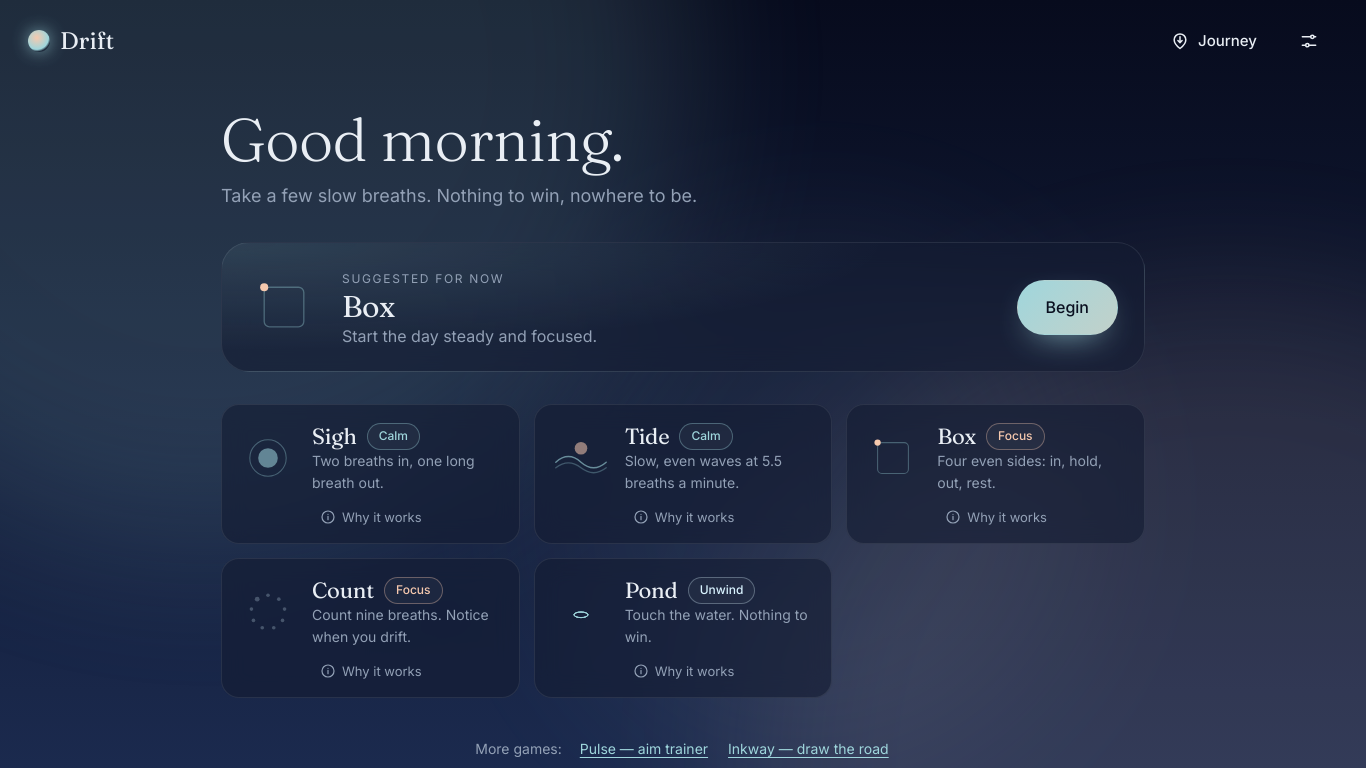
home › starts a session with the chosen options
Step 1. Click the button with aria-label "Sigh:" → [370, 454], box top-left (222, 405), bottom-right (519, 503)
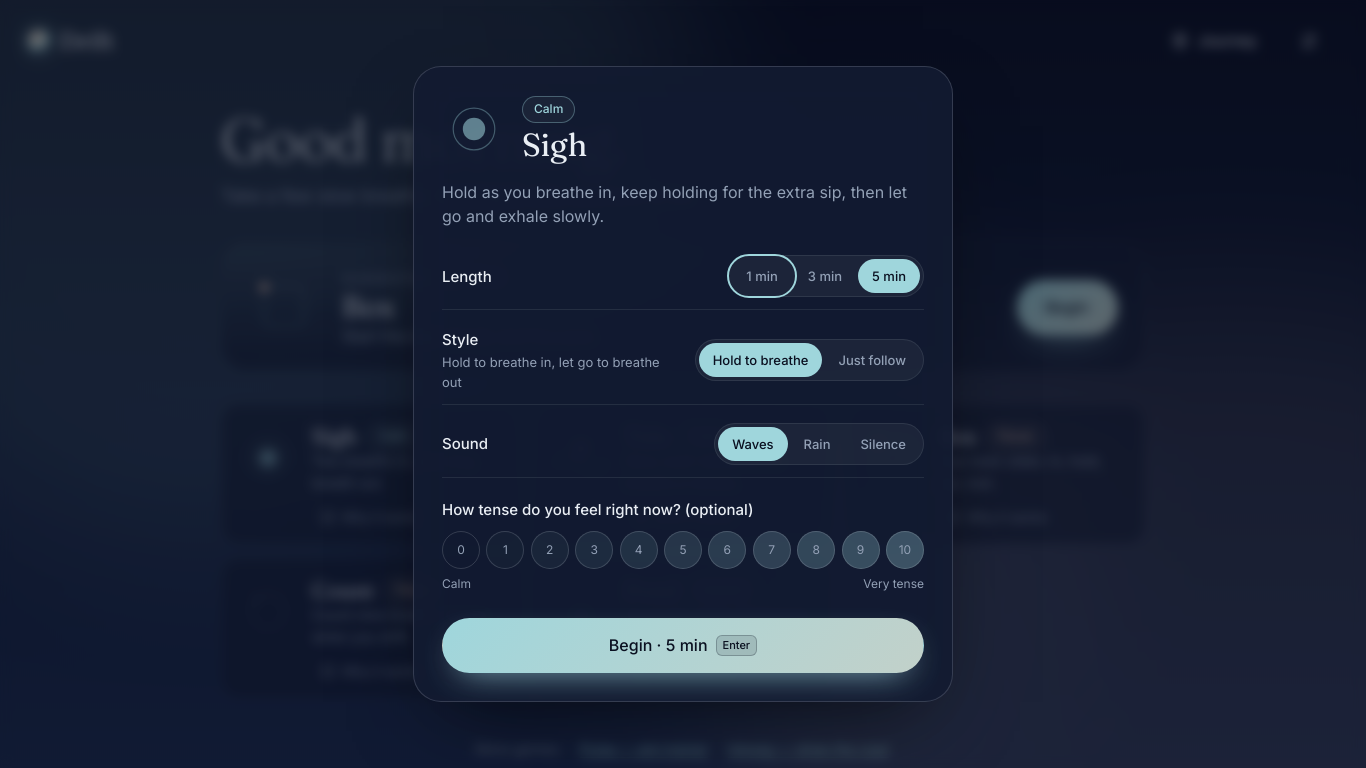
Step 2. Click the radio button labelled "1 min" → [762, 276], box top-left (732, 259), bottom-right (792, 293)
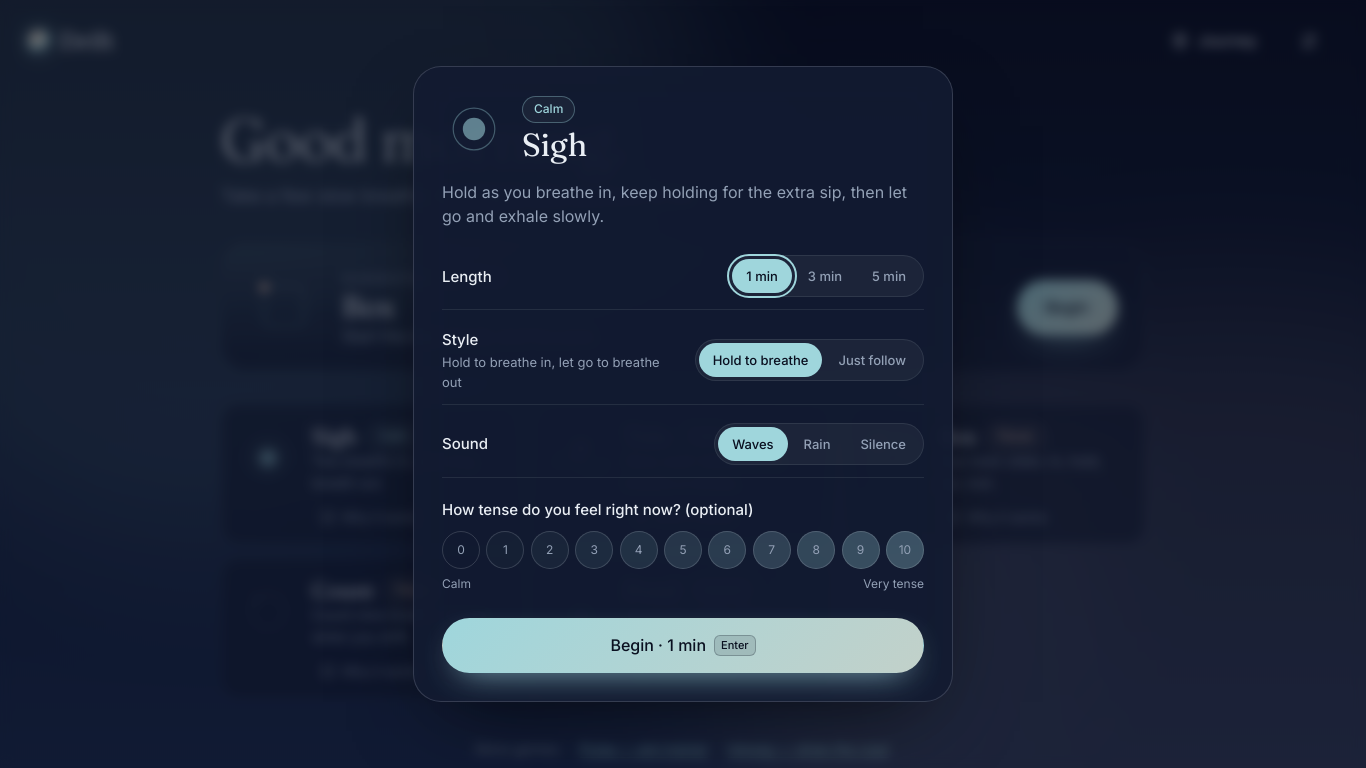
Step 3. Click the radio button labelled "Just follow" → [872, 360], box top-left (824, 343), bottom-right (920, 377)
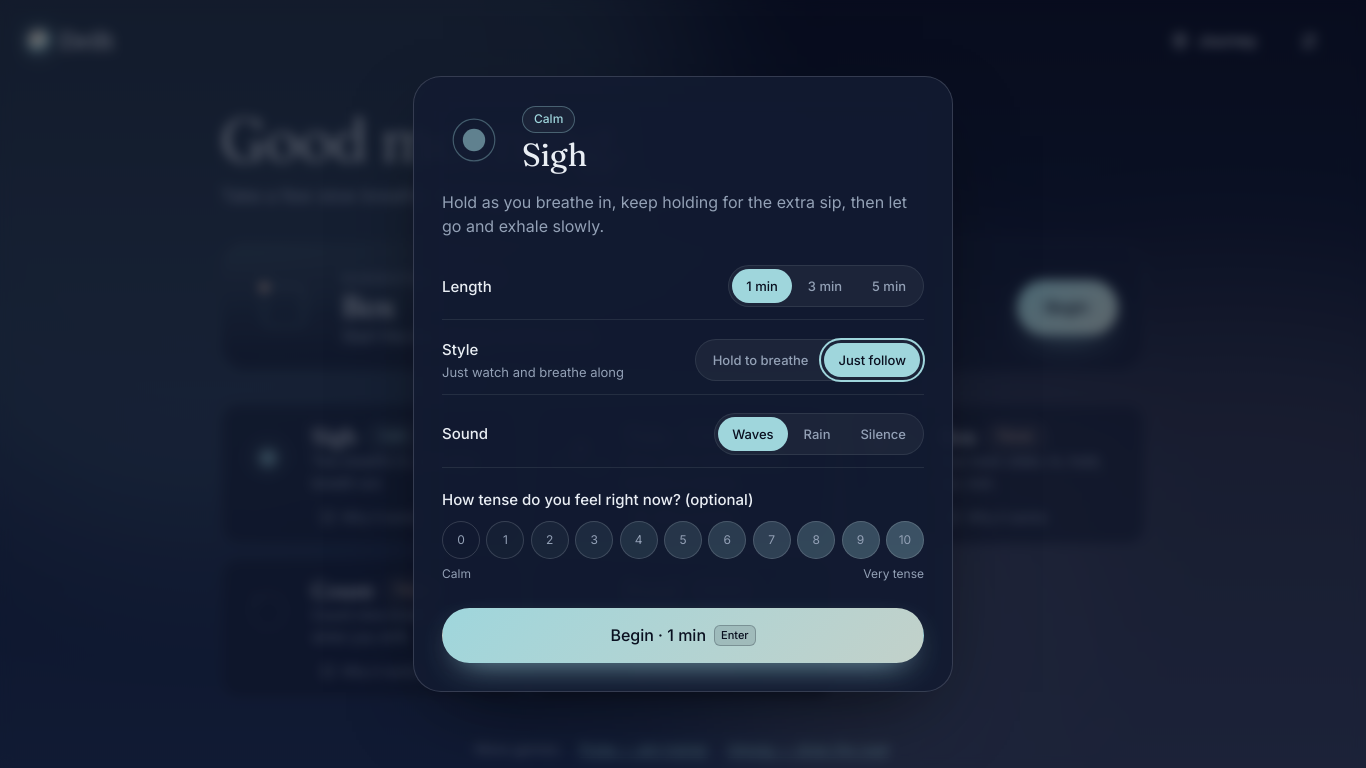
Step 4. Click the radio button labelled "Rain" → [817, 434], box top-left (790, 417), bottom-right (844, 451)
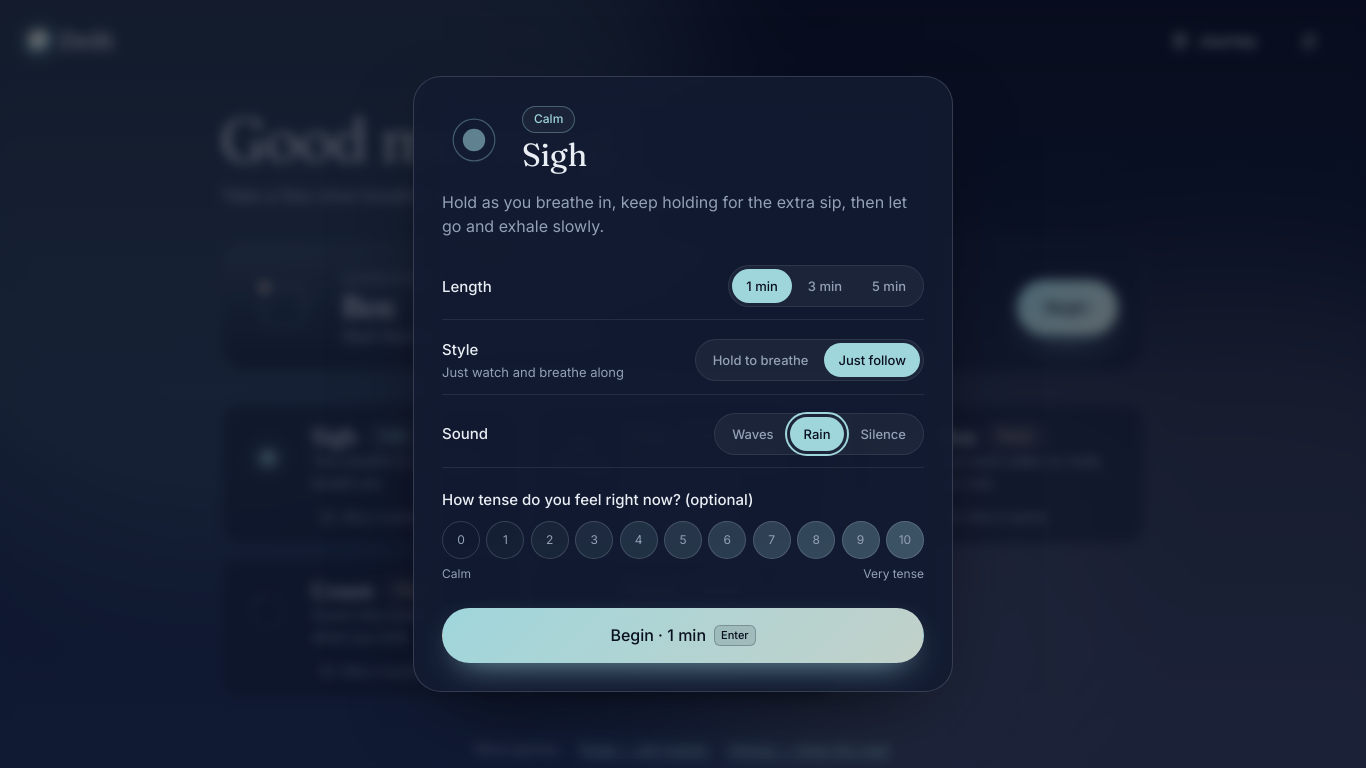
Step 5. Click the radio button labelled "6" → [727, 540], box top-left (708, 521), bottom-right (746, 559)
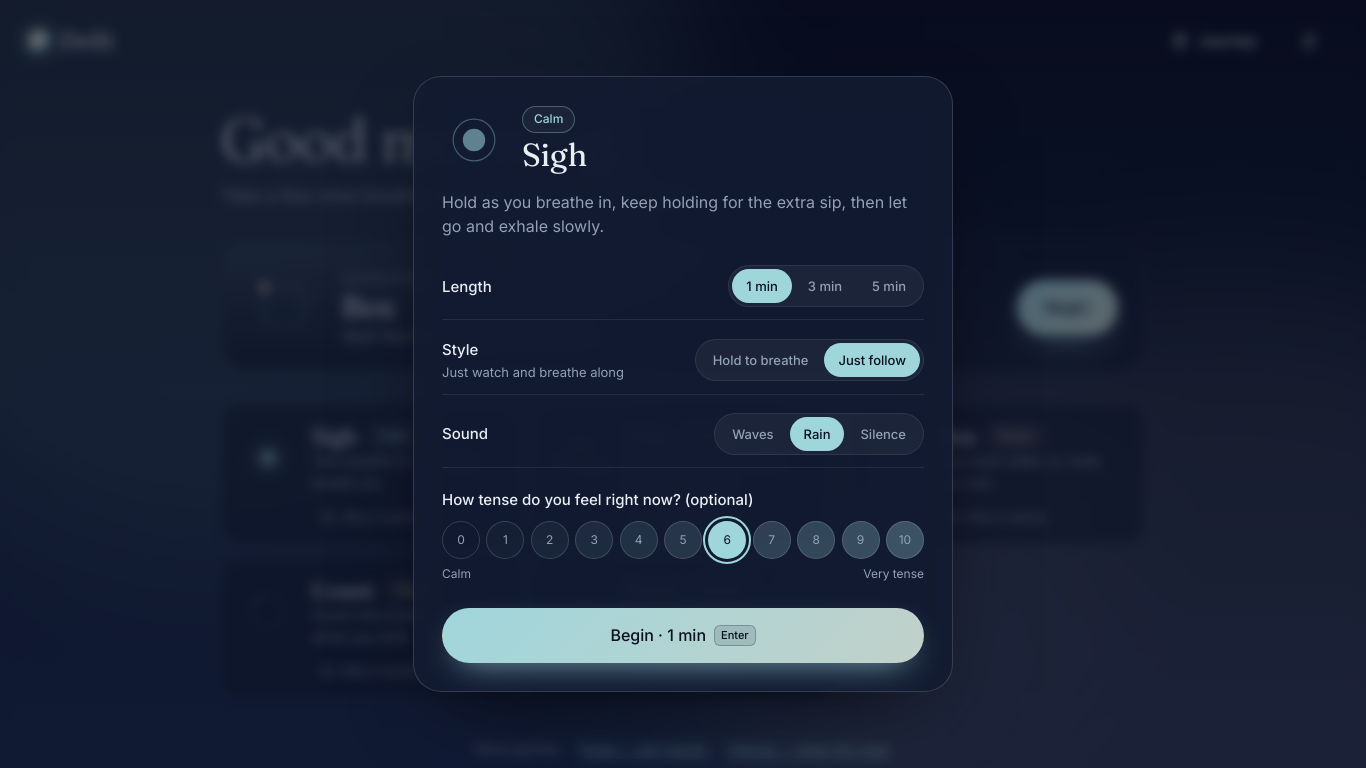
Step 6. Click the button "Begin · 1 min Enter" → [683, 635], box top-left (442, 608), bottom-right (924, 663)
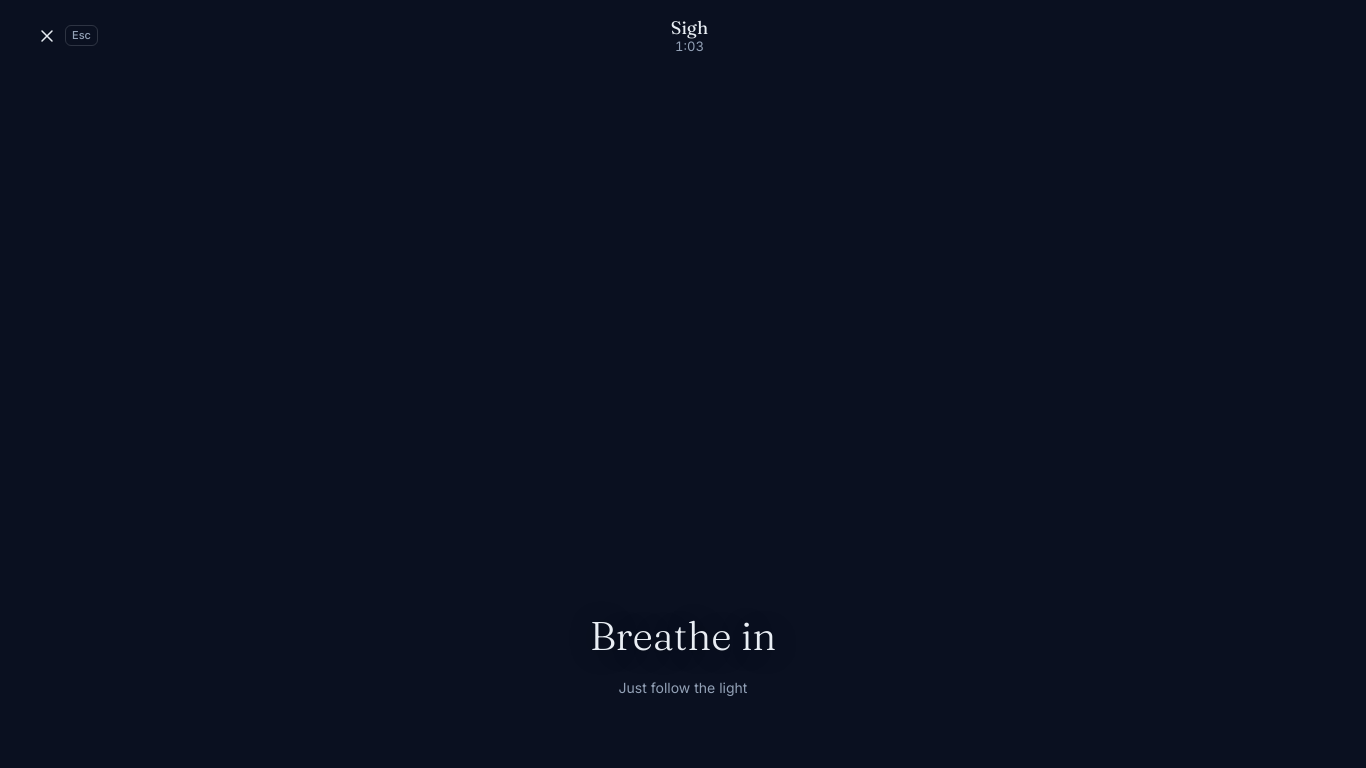
Expected: the text named "Time remaining" reads "1:03", top-left (675, 38), bottom-right (704, 54)
